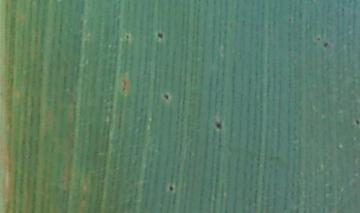tarspot: (119, 72, 131, 95), (159, 90, 174, 103), (214, 119, 223, 133), (155, 30, 165, 42), (164, 183, 177, 192), (124, 31, 132, 40), (322, 41, 330, 50), (354, 118, 360, 127)
